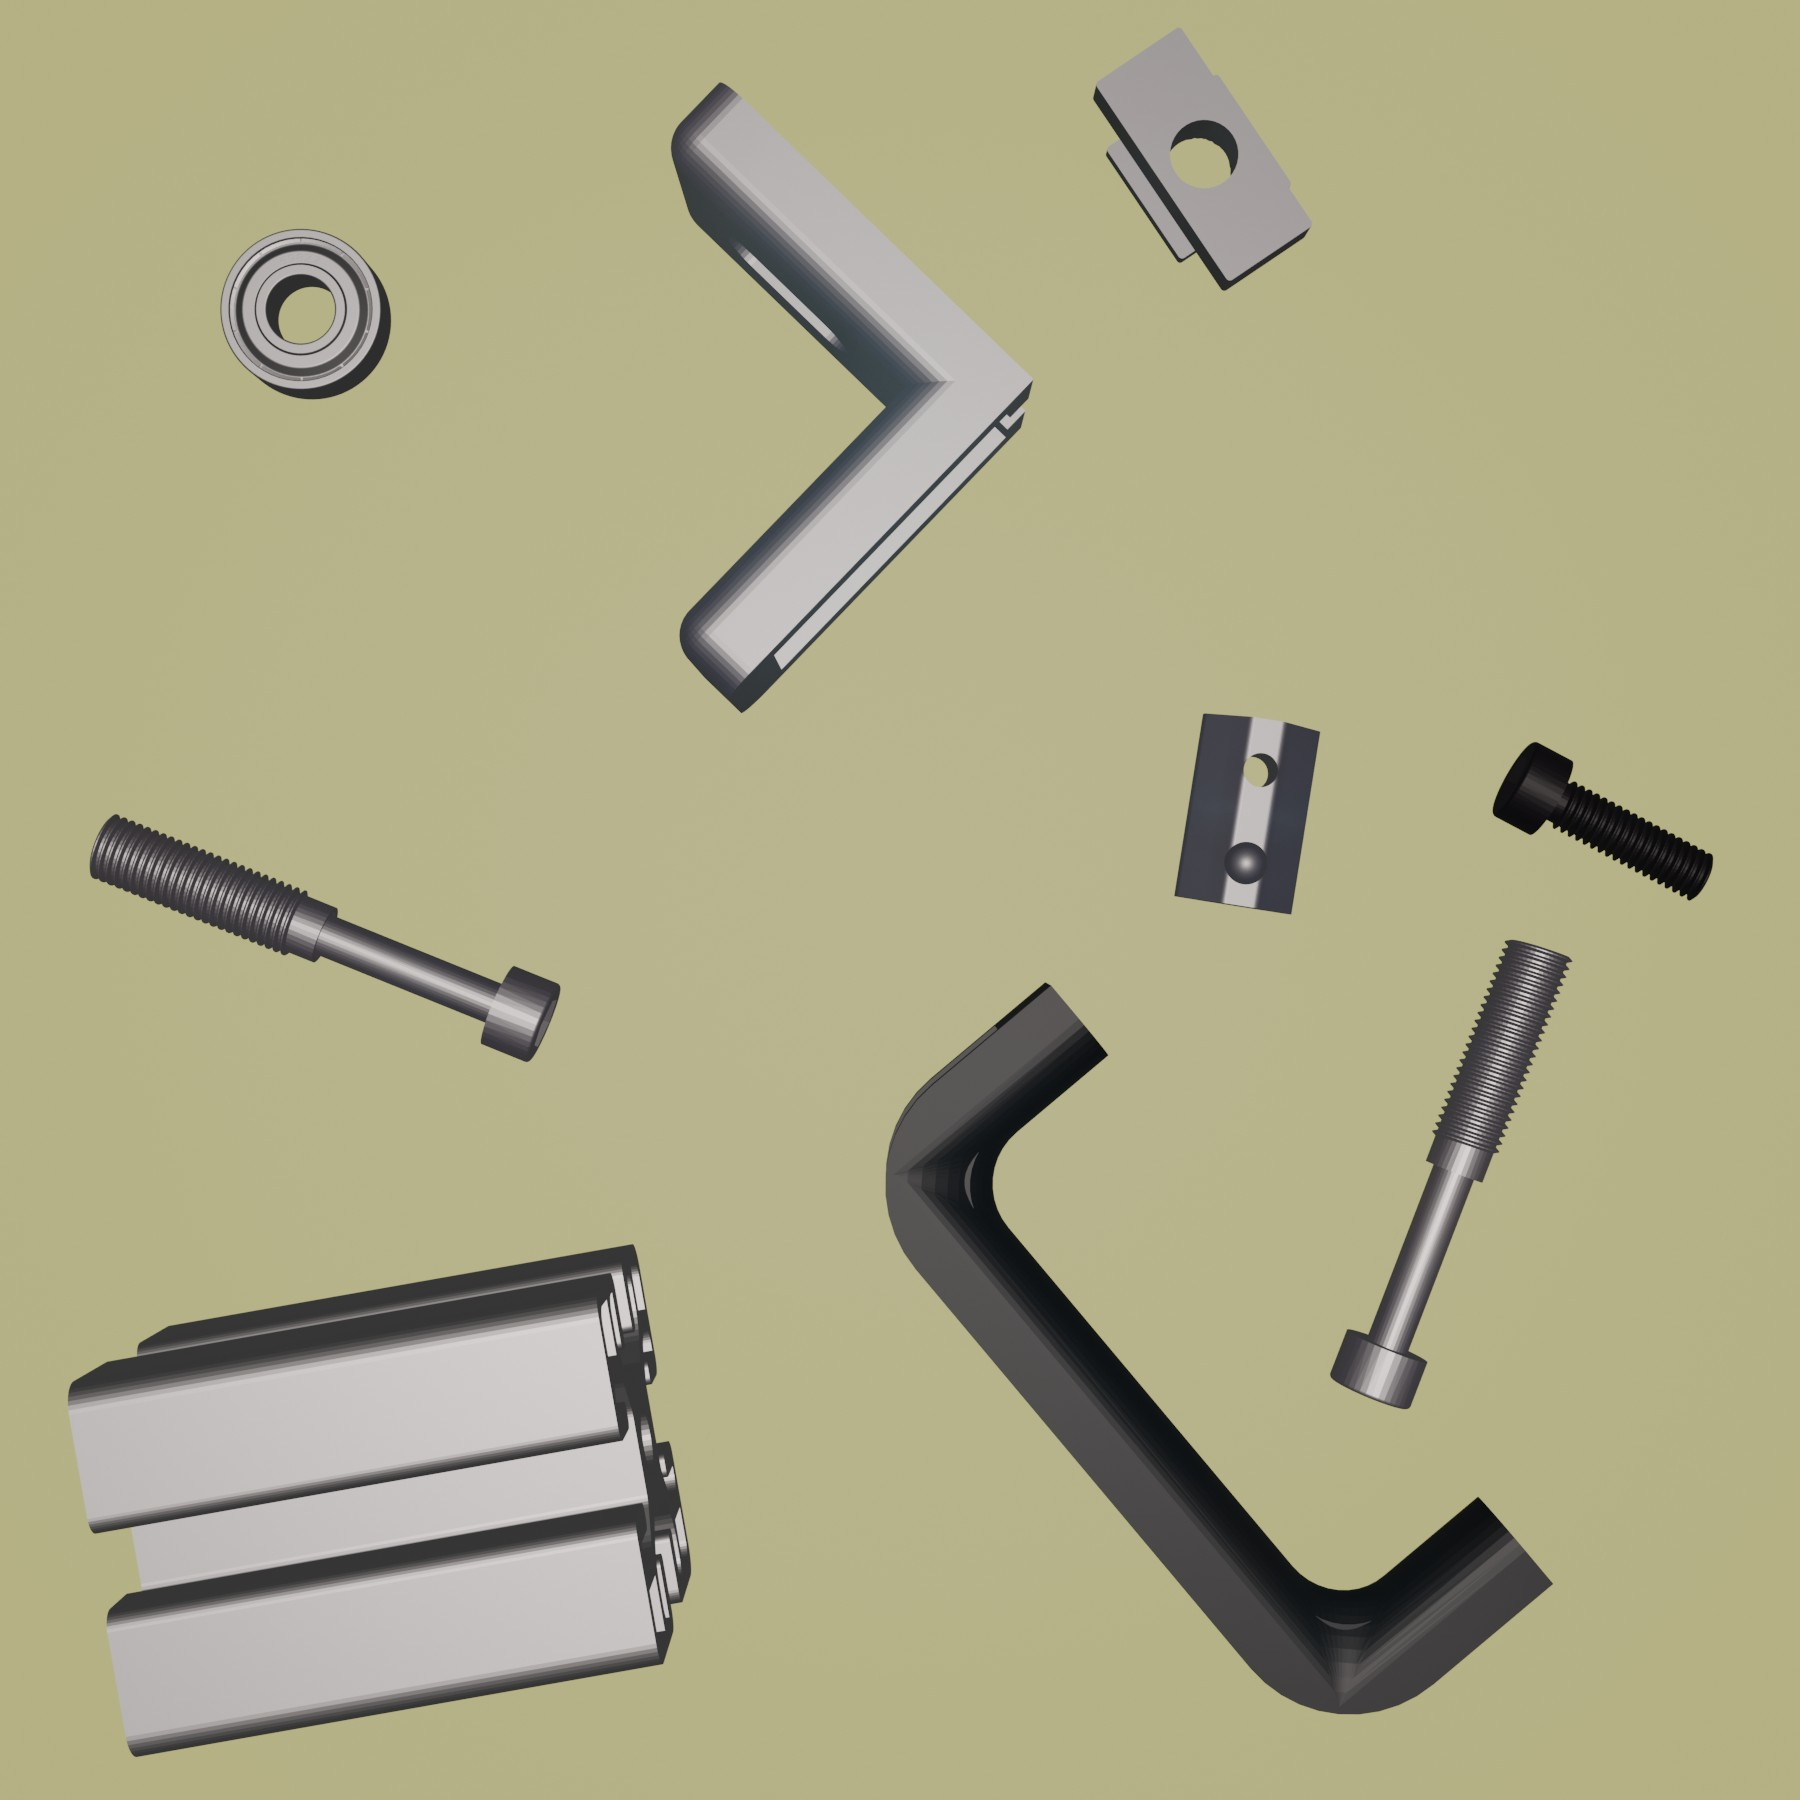Aluminium Extension: (64, 1240, 694, 1759)
Ball Bearing: (216, 223, 392, 402)
Multiwinkel: (669, 77, 1035, 722)
Pull Handle: (880, 977, 1554, 1718)
Shoulder Socket Head Cap Screw: (82, 809, 564, 1065), (1327, 935, 1576, 1414)
Socket Head Cap Screw: (1488, 738, 1718, 902)
T Nut Square: (1090, 25, 1314, 297)
T Spring Nut: (1170, 707, 1324, 918)
